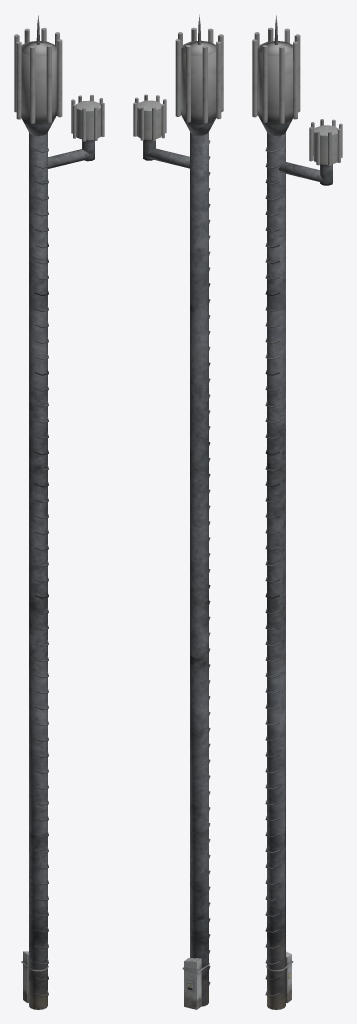
The model's file is small_cell.glb.
3 views of the same model, side by side, from view 1: azimuth 30°, elevation 25°; view 2: azimuth 150°, elevation 25°; view 3: azimuth 330°, elevation 25° (orthographic).
Visible parts, largest first — view 1: body; view 2: body; view 3: body.
Part boxes in pixels (x1,y1,x2,y2): body: (14,15,104,1009); body: (133,14,223,1009); body: (252,15,342,1009).
Size of the model in its own units: 3 by 33 by 1.5.
1 material, 1 textured.
